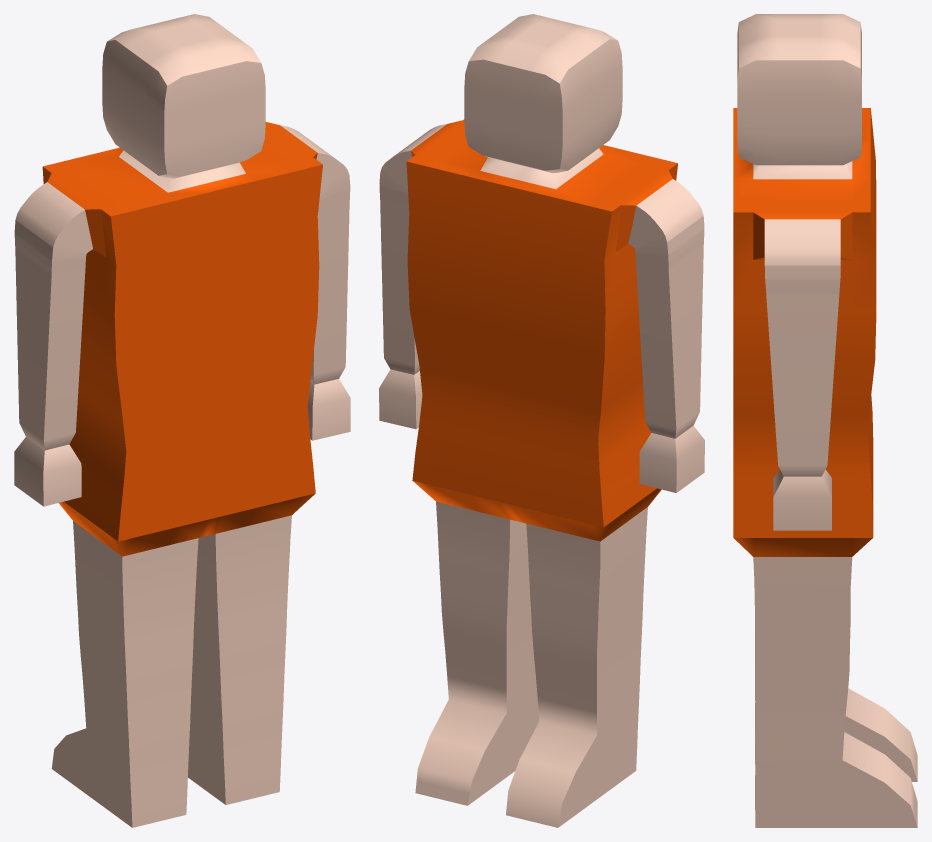
Rendered from CharacterToGoToUnity.fbx.
3 renders of one model, left to right at view 1: azimuth 30°, elevation 25°; view 2: azimuth 150°, elevation 25°; view 3: azimuth 270°, elevation 25°, orthographic. The views are drawn at different scales.
Visible parts, largest first — view 1: pCube3; view 2: pCube3; view 3: pCube3.
Boxes of the visible parts, box(x1,y1,x2,y2) form: pCube3: box(14, 14, 350, 827); pCube3: box(379, 14, 704, 827); pCube3: box(733, 14, 917, 827).
Bounding box in the file's own units: 2.74 × 6.45 × 1.41.
Materials: 1 (1 with a texture image).
